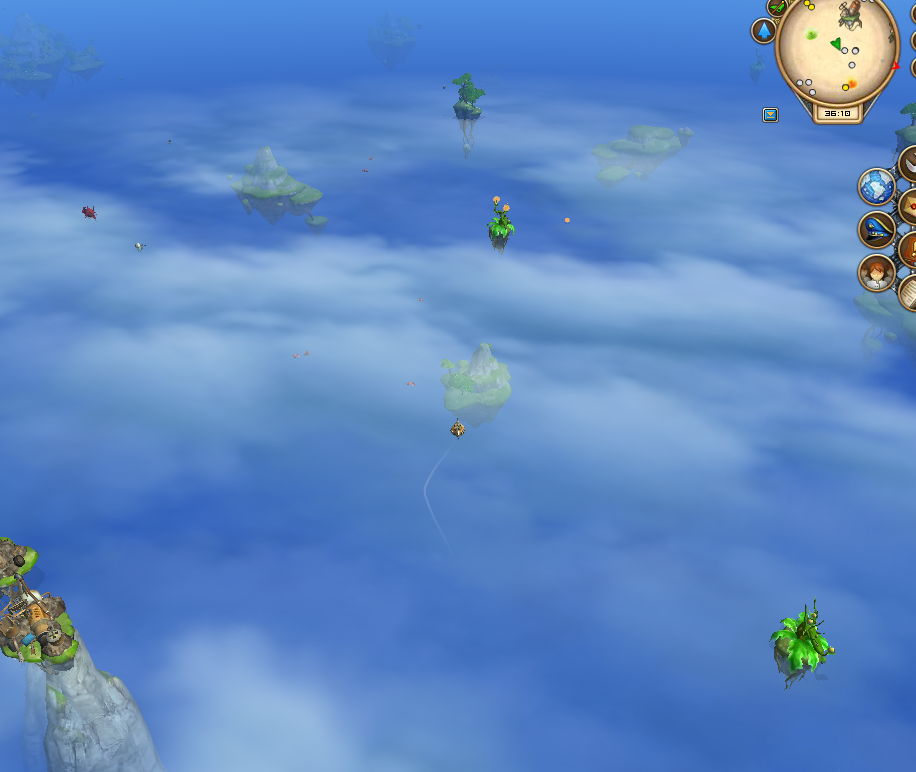dandelion-empty: (770, 599, 837, 689)
dandelion-full: (484, 193, 516, 254), (746, 43, 767, 85)
fluff: (563, 214, 571, 227)
